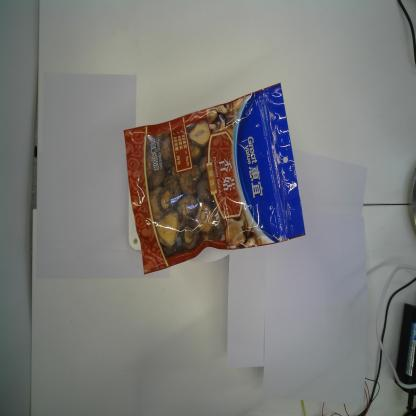Dried Food: (124, 82, 305, 277)
